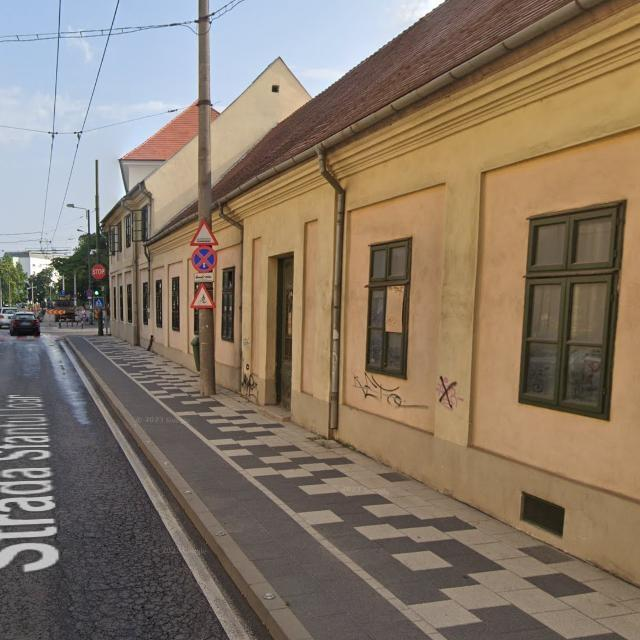forb_waiting: (191, 247, 216, 273)
info_crosswalk: (93, 297, 105, 310)
prio_stop: (92, 264, 106, 279)
